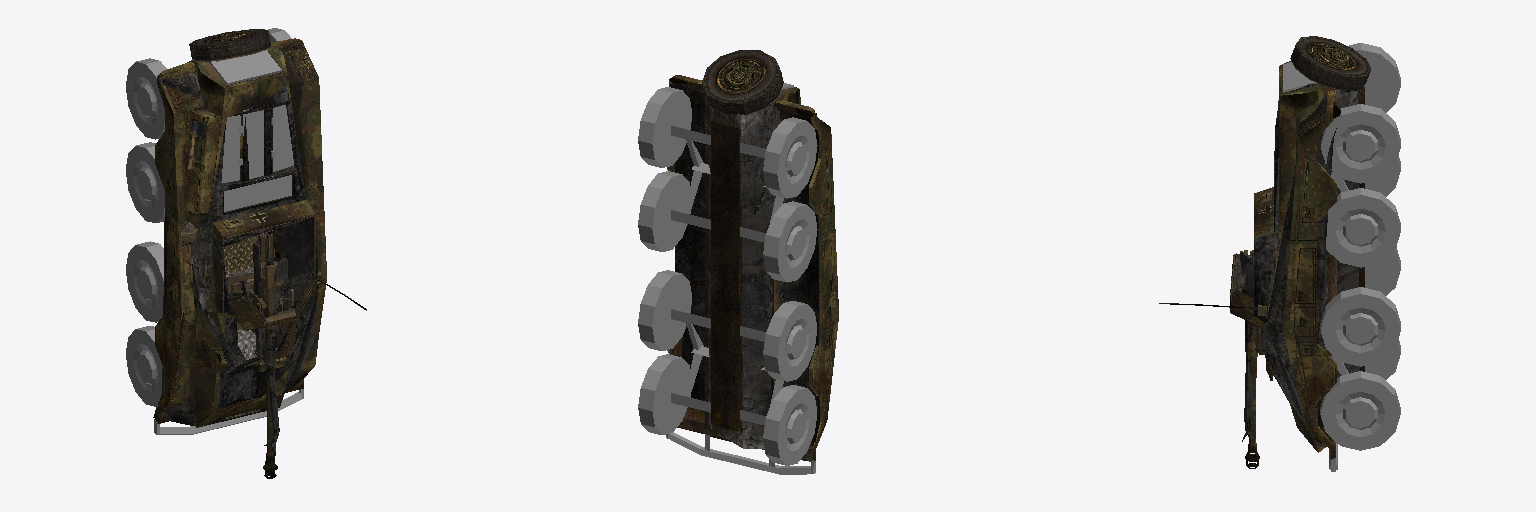
The picture shows the model from 3 angles: view 1: azimuth 30°, elevation 25°; view 2: azimuth 150°, elevation 25°; view 3: azimuth 270°, elevation 25°; orthographic projection.
Parts seen in each view (by area): view 1: New_234_4_Hull, Delete_Armoured_Car, Wrecked_Chassis, New_Wrecked_234_4_Interior, Wrecked_Pak40_Barrel, New_234_4_Interior, Pak40_Shield, New_Wrecked_FrontHatch, Pak40_GunBarrel, Wrecked_Pak40_Shield, Wrecked_Cradle, New_234_Tools; view 2: Delete_Armoured_Car, New_234_4_Hull, Wrecked_Chassis; view 3: Delete_Armoured_Car, New_234_4_Hull, Wrecked_Chassis, Wrecked_Pak40_Barrel, Pak40_Shield, Pak40_GunBarrel.
Part boxes in pixels (left/top/right/bottom): New_234_4_Hull: left=155, top=29, right=326, bottom=427; Delete_Armoured_Car: left=126, top=28, right=303, bottom=434; Wrecked_Chassis: left=153, top=52, right=318, bottom=425; New_Wrecked_234_4_Interior: left=222, top=216, right=313, bottom=364; Wrecked_Pak40_Barrel: left=264, top=257, right=287, bottom=456; New_234_4_Interior: left=224, top=222, right=289, bottom=336; Pak40_Shield: left=229, top=278, right=317, bottom=330; New_Wrecked_FrontHatch: left=221, top=368, right=257, bottom=406; Pak40_GunBarrel: left=261, top=261, right=283, bottom=478; Wrecked_Pak40_Shield: left=229, top=272, right=313, bottom=327; Wrecked_Cradle: left=240, top=238, right=268, bottom=360; New_234_Tools: left=180, top=120, right=206, bottom=287; Delete_Armoured_Car: left=638, top=83, right=817, bottom=474; New_234_4_Hull: left=667, top=50, right=838, bottom=460; Wrecked_Chassis: left=670, top=84, right=819, bottom=461; Delete_Armoured_Car: left=1278, top=43, right=1400, bottom=471; New_234_4_Hull: left=1254, top=36, right=1370, bottom=459; Wrecked_Chassis: left=1254, top=84, right=1362, bottom=443; Wrecked_Pak40_Barrel: left=1240, top=250, right=1254, bottom=441; Pak40_Shield: left=1230, top=254, right=1265, bottom=328; Pak40_GunBarrel: left=1244, top=250, right=1259, bottom=468.
Size of the model in its own units: 2.83 by 7.77 by 4.03.
Materials: 7 (6 with a texture image).